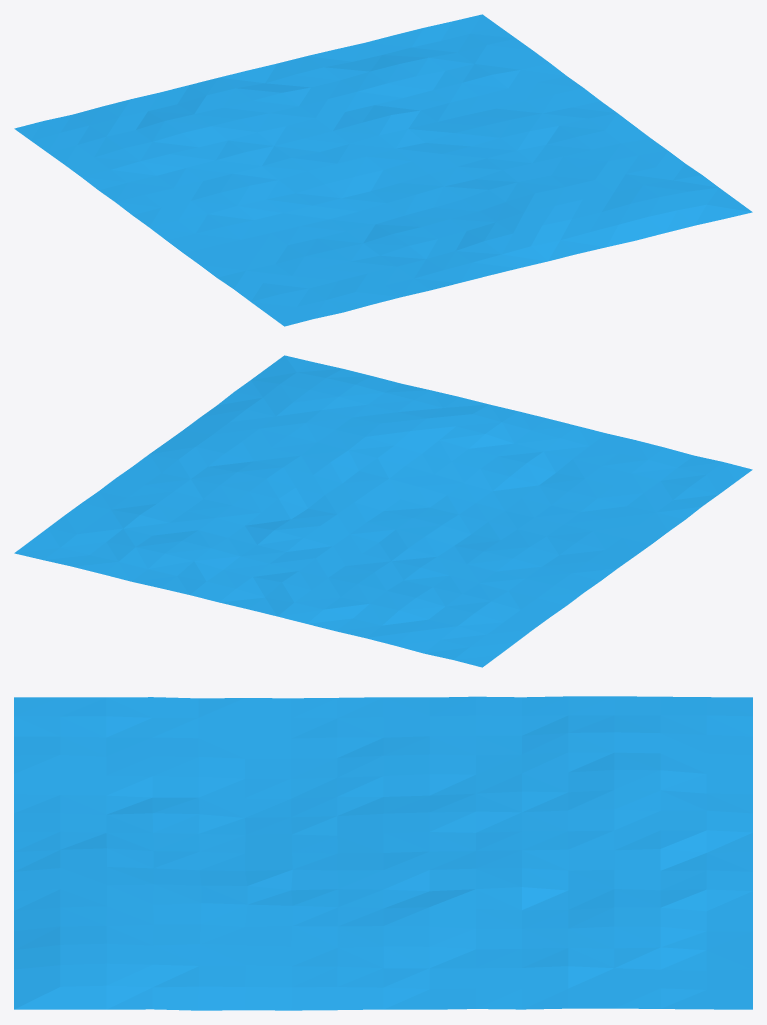
The model's file is SM_Water_01_A.gltf.
3 renders of one model, top to bottom at view 1: azimuth 30°, elevation 25°; view 2: azimuth 150°, elevation 25°; view 3: azimuth 270°, elevation 25°, orthographic. The views are drawn at different scales.
Visible parts, largest first — view 1: Water_01_A; view 2: Water_01_A; view 3: Water_01_A.
Boxes of the visible parts, x1,y1,x2,y2 form: Water_01_A: (14,14,752,326); Water_01_A: (14,355,752,667); Water_01_A: (14,696,752,1010).
Size of the model in its own units: 16 by 0.2589 by 16.
